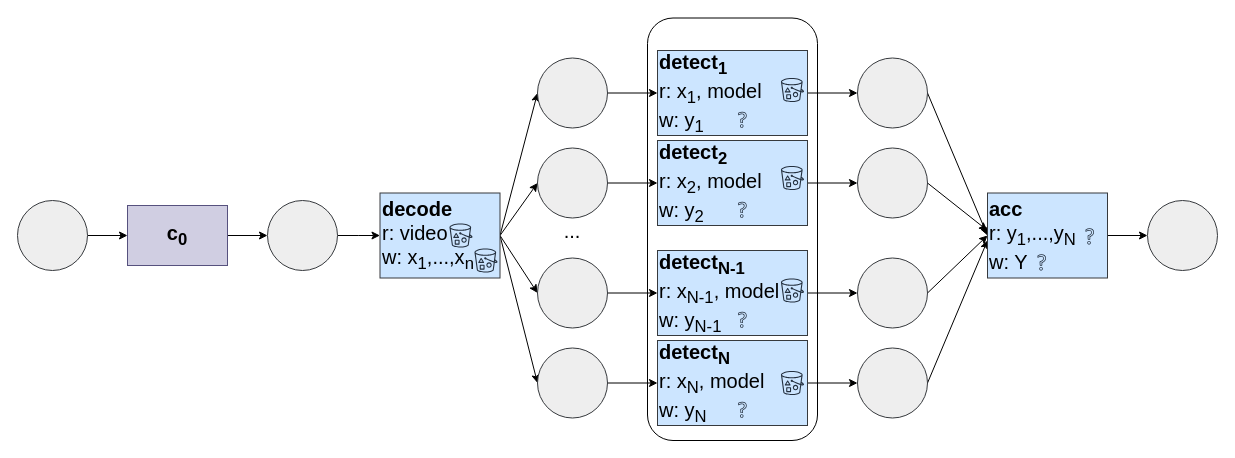
This 1235x458 diagram has some shape labels left out. The box of each missing label's shape, as (x1, y1, x2, y2) in pixels:
end: (1146, 200, 1218, 270)
Map: (646, 17, 818, 440)
start: (16, 200, 88, 270)
